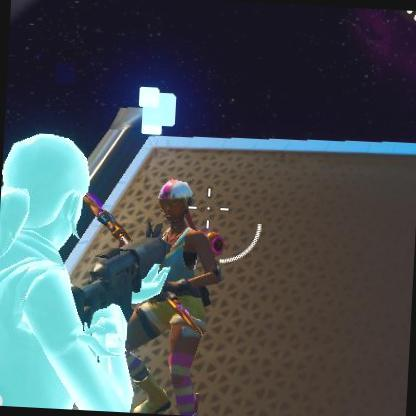person: (132, 180, 218, 401)
